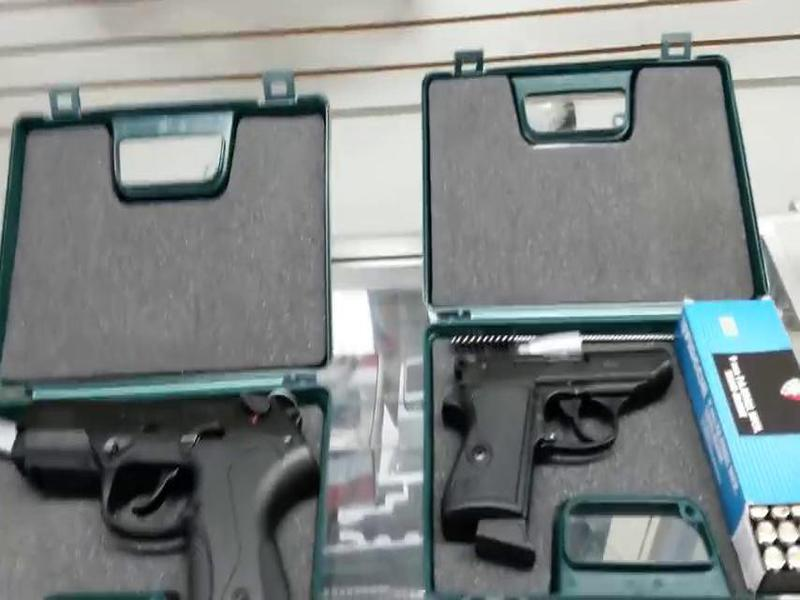Pistola: (11, 387, 329, 600), (414, 344, 685, 533)
